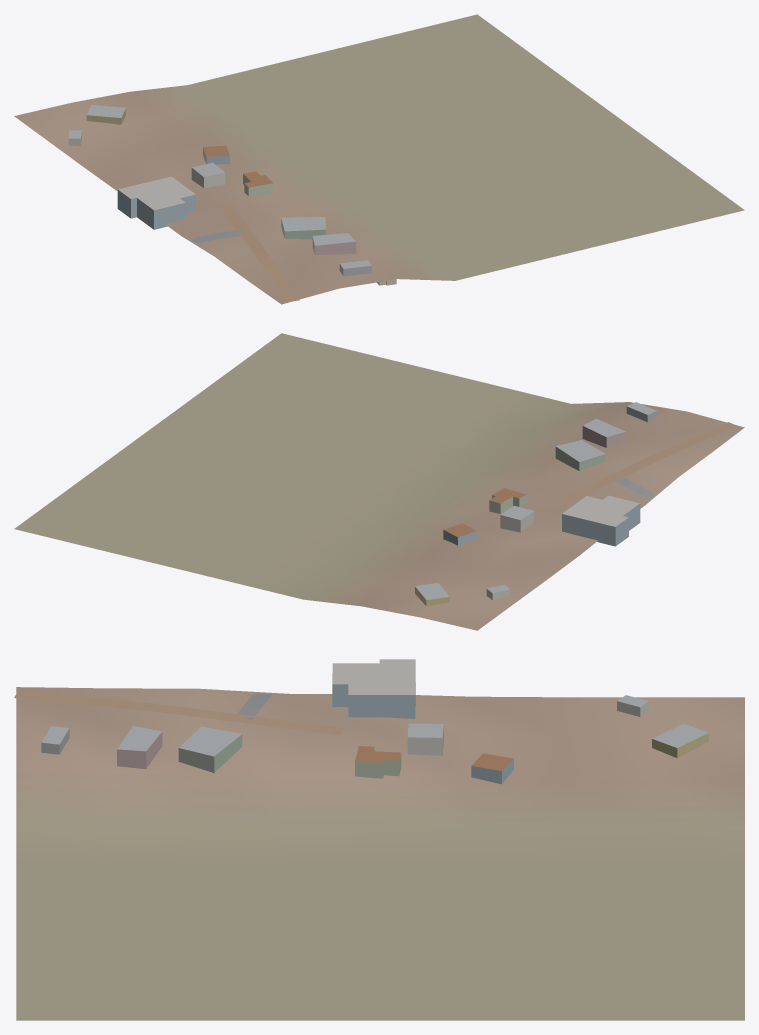
3 views of the same model, one above another, from view 1: azimuth 30°, elevation 25°; view 2: azimuth 150°, elevation 25°; view 3: azimuth 270°, elevation 25° (orthographic). The views are drawn at different scales.
Visible parts, largest first — view 1: Lo; view 2: Lo; view 3: Lo.
Boxes of the visible parts, left/top/right/bottom form: Lo: left=14, top=14, right=744, bottom=304; Lo: left=14, top=333, right=744, bottom=630; Lo: left=14, top=659, right=744, bottom=1020.
Bounding box in the file's own units: 266 × 16.22 × 257.
